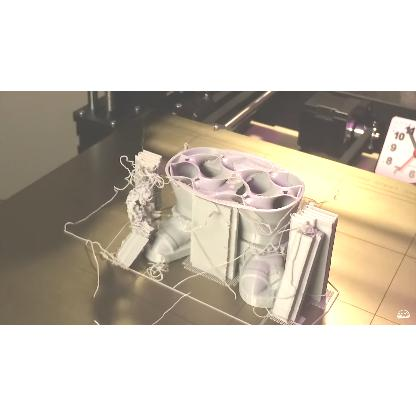fail: (57, 205, 113, 287), (113, 150, 165, 188), (250, 214, 288, 242), (144, 257, 172, 282)
